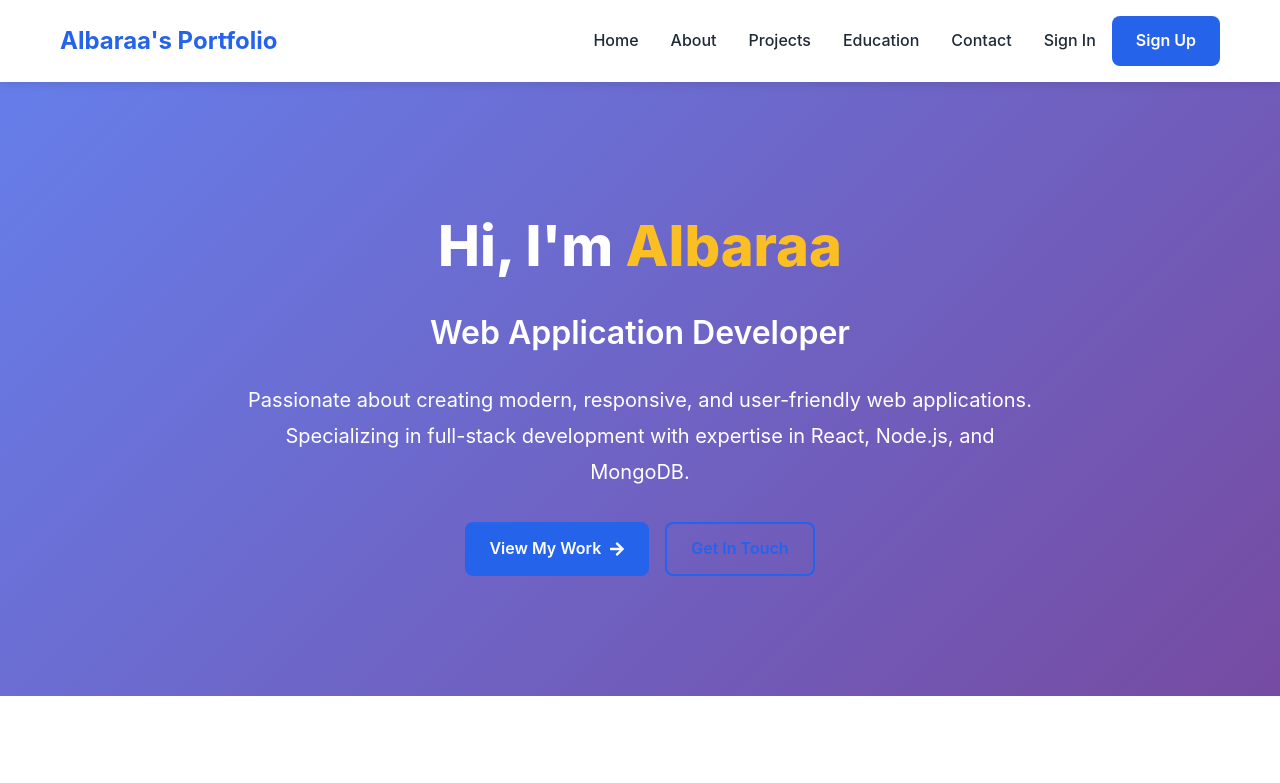
Test: Portfolio Navigation › should navigate to About page
Click the link "About" at (694, 41), box [671,28,717,54]
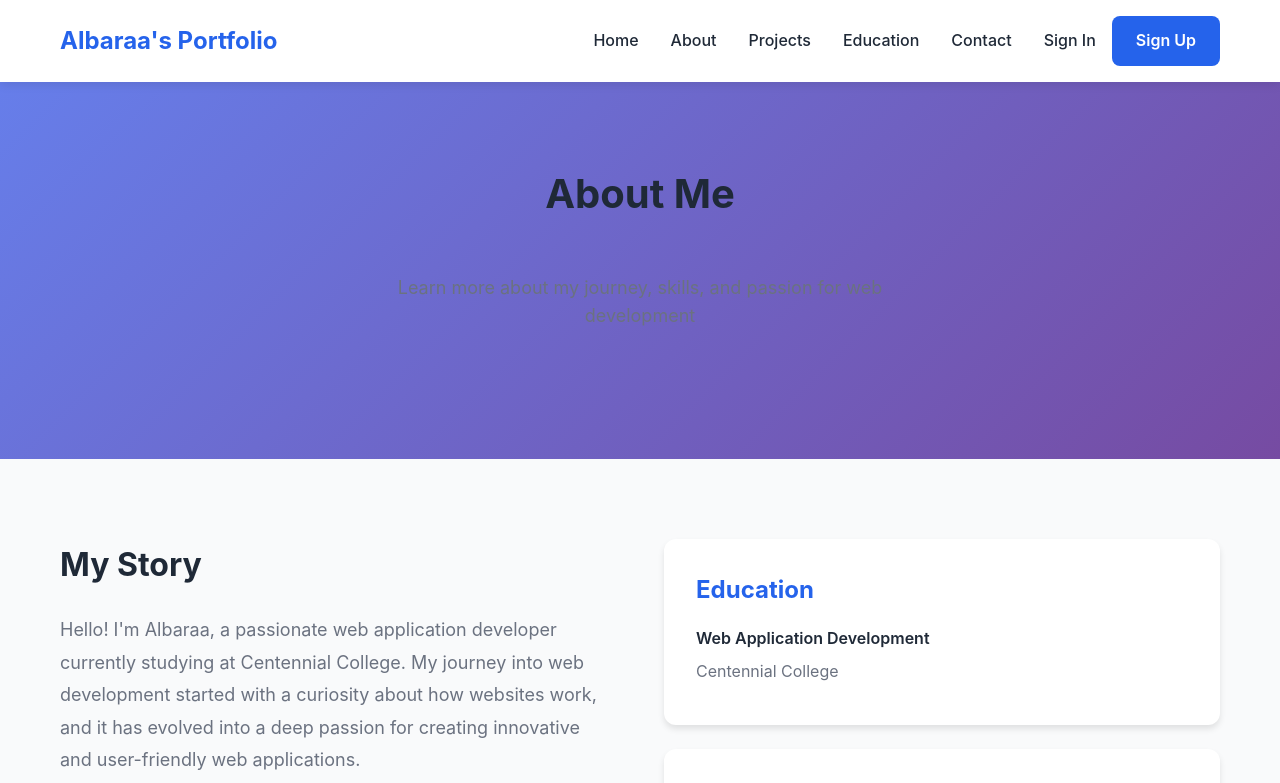
Now the heading "About Me" is shown, box [545,169,735,218]
